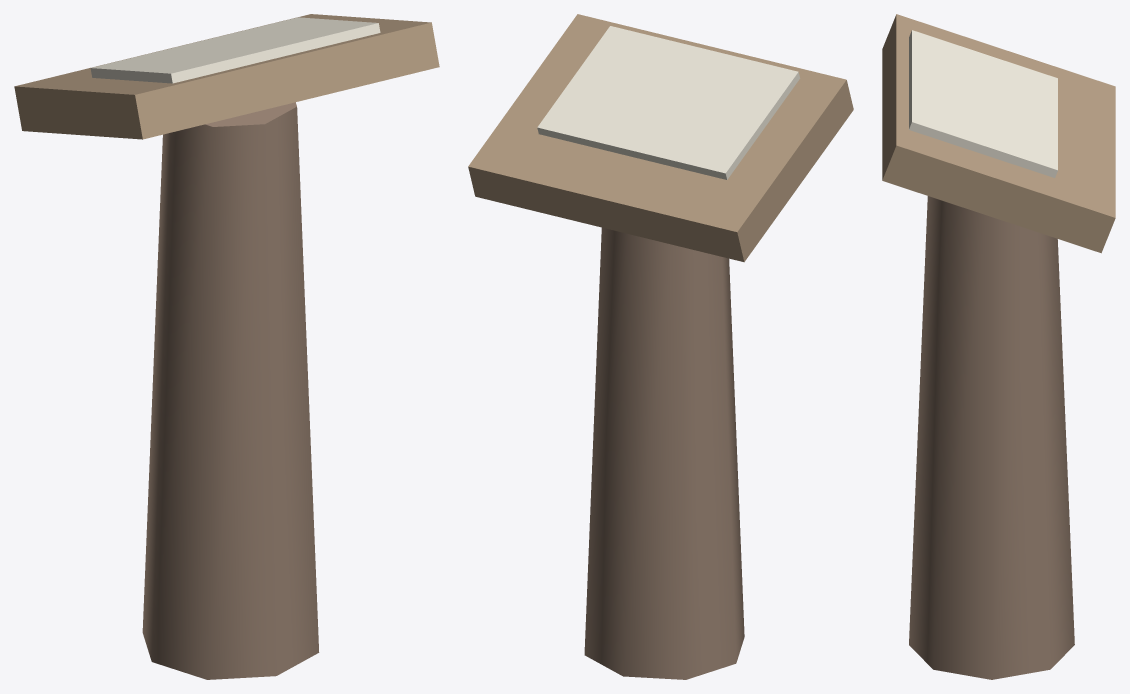
File: lectern.gltf
3 views of the same model, side by side, from view 1: azimuth 30°, elevation 25°; view 2: azimuth 150°, elevation 25°; view 3: azimuth 270°, elevation 25° (orthographic). The views are drawn at different scales.
Parts seen in each view (by area): view 1: Post, Desk, Page; view 2: Post, Desk, Page; view 3: Post, Desk, Page.
Part boxes in pixels (box(x1,y1,x2,y2)): Post: box(142, 102, 319, 679); Desk: box(14, 14, 439, 139); Page: box(90, 17, 380, 83); Post: box(584, 227, 744, 679); Desk: box(468, 14, 853, 262); Page: box(537, 26, 800, 179); Post: box(909, 196, 1074, 679); Desk: box(882, 14, 1115, 253); Page: box(909, 30, 1057, 177).
Size of the model in its own units: 0.6 by 1.21 by 0.4501.
